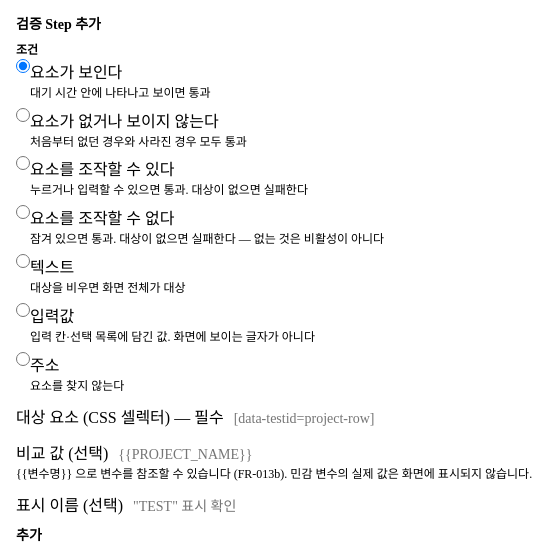
값을 쓰지 않는 종류에서는 값 칸이 사라진다 › 상태 검증을 고르면 비교 값과 비교 방식이 함께 사라진다
Expected: the field labelled "비교 값 (선택)" is shown, x1=108 y1=444 x2=306 y2=466
Click the radio button labelled "요소를 조작할 수 없다" at {"x": 23, "y": 212}, box x1=16 y1=205 x2=30 y2=219
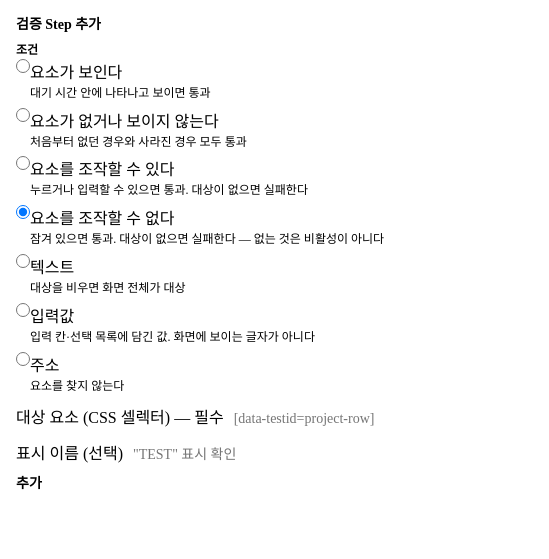
Now the label labelled "비교 값" is gone
